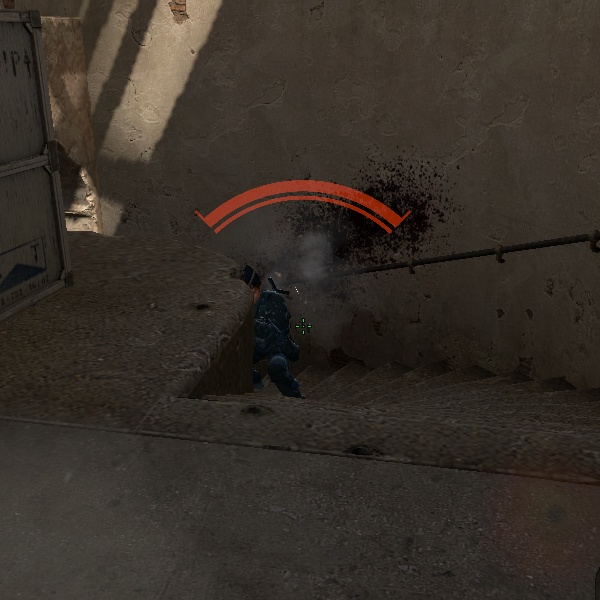ct_body: (245, 268, 306, 402)
ct_head: (239, 267, 263, 302)
